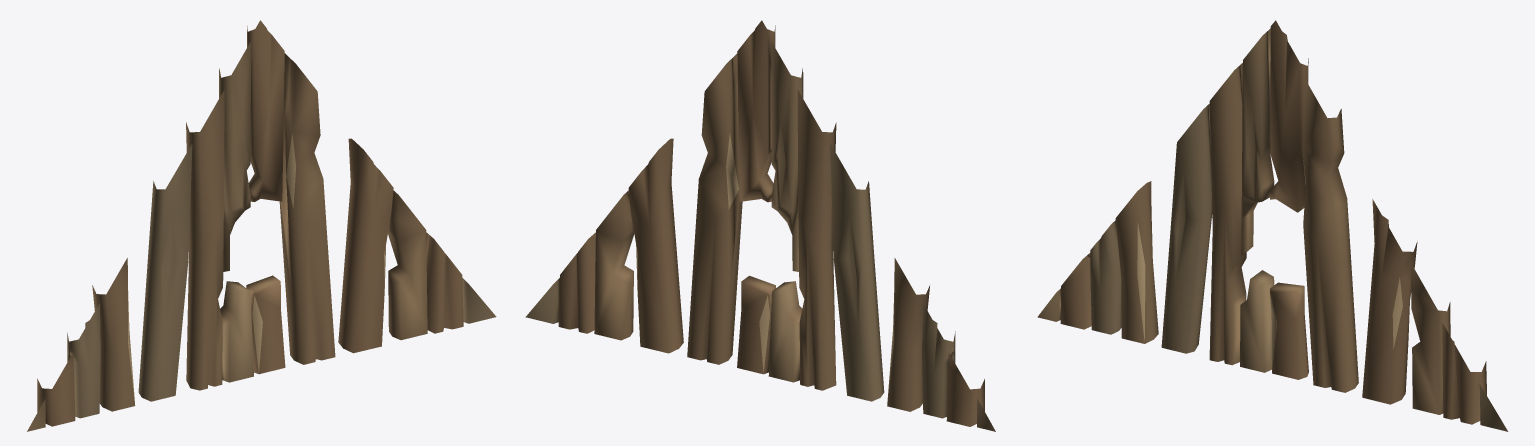
The model's file is rpgpp_av_roof_end_01_6x5_wall_window_02b.gltf.
3 renders of one model, left to right at view 1: azimuth 30°, elevation 25°; view 2: azimuth 150°, elevation 25°; view 3: azimuth 330°, elevation 25°, orthographic.
Parts seen in each view (by area): view 1: rpgpp_av_roof_end_01_6x5_wall_window_02b; view 2: rpgpp_av_roof_end_01_6x5_wall_window_02b; view 3: rpgpp_av_roof_end_01_6x5_wall_window_02b.
Boxes of the visible parts, x1,y1,x2,y2 form: rpgpp_av_roof_end_01_6x5_wall_window_02b: [27, 20, 496, 431]; rpgpp_av_roof_end_01_6x5_wall_window_02b: [525, 20, 995, 431]; rpgpp_av_roof_end_01_6x5_wall_window_02b: [1037, 20, 1508, 431].
Bounding box in the file's own units: 0.0678 × 0.0486 × 0.00388.
1 material, 1 textured.
